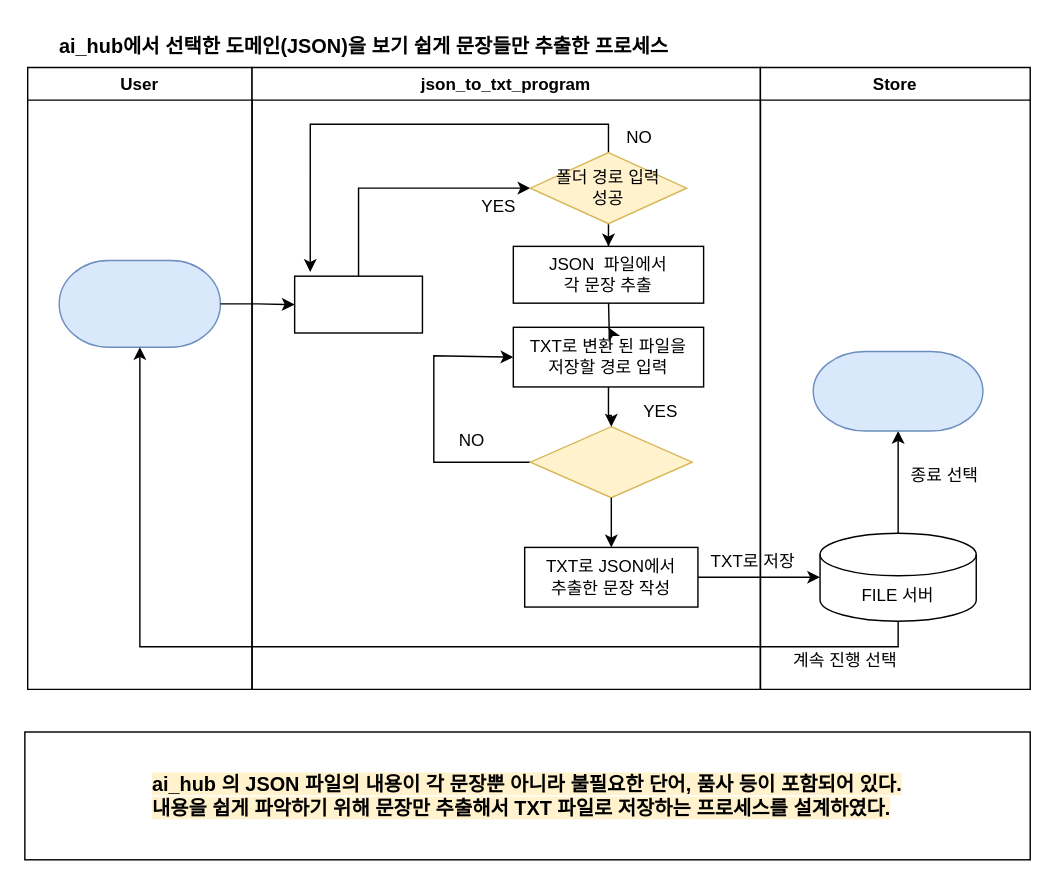
Image size: 1055x885. Some labels were removed from this diagram. The shapes that lost their labels are listed below. From the top down, each one's centre as x and y in pixels, then its label:
At point 139,303: "프로그램 시작".
At point 357,304: "JSON 폴더 경로 입력".
At point 897,390: "프로그램 종료".
At point 610,461: "저장할 경로 입력 성공".
